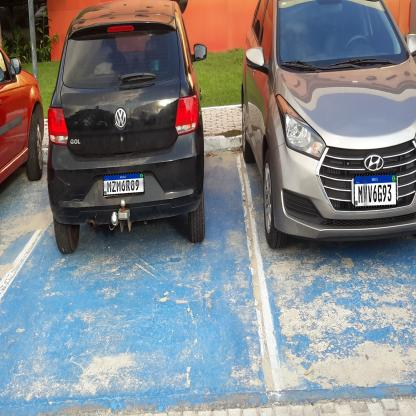PlacaM: (354, 173, 397, 208), (102, 172, 144, 196)
